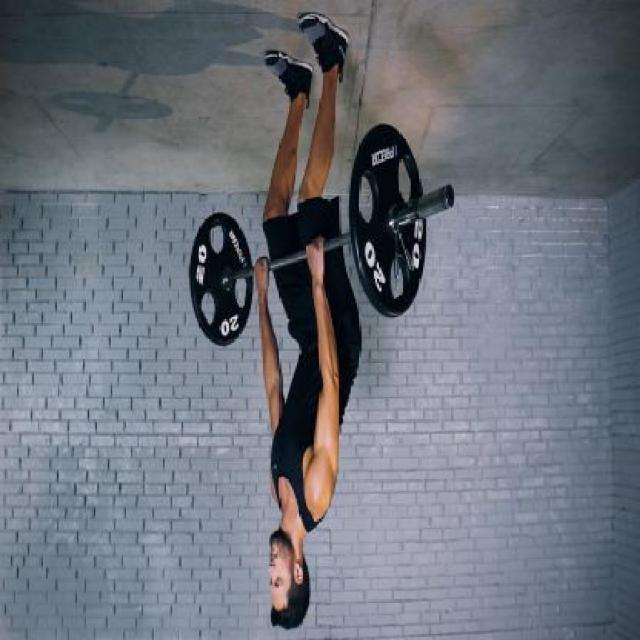Barbell: (442, 172, 461, 216)
